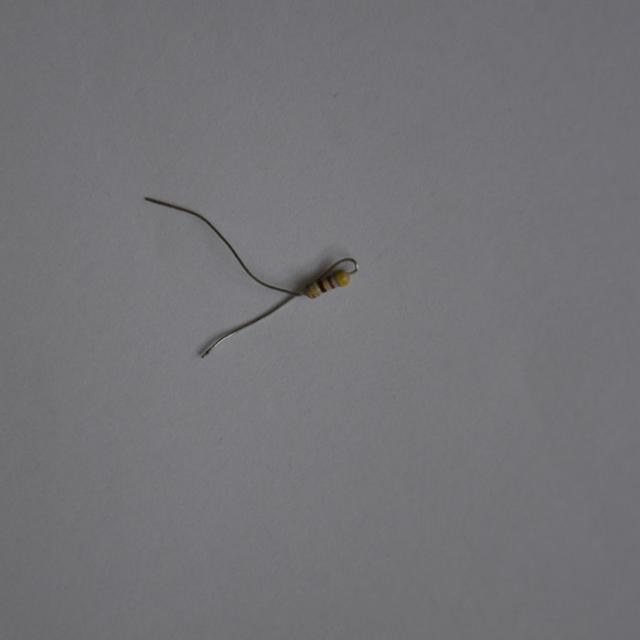brown: (317, 279, 326, 293)
gold: (306, 283, 318, 297)
resistor: (301, 264, 356, 304)
violet: (325, 276, 335, 288)
yellow: (335, 270, 347, 286)
